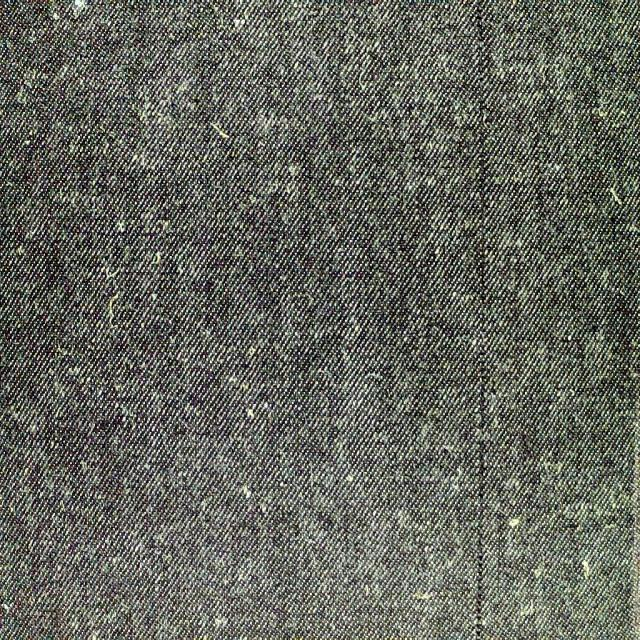defect: (476, 14, 490, 640)
